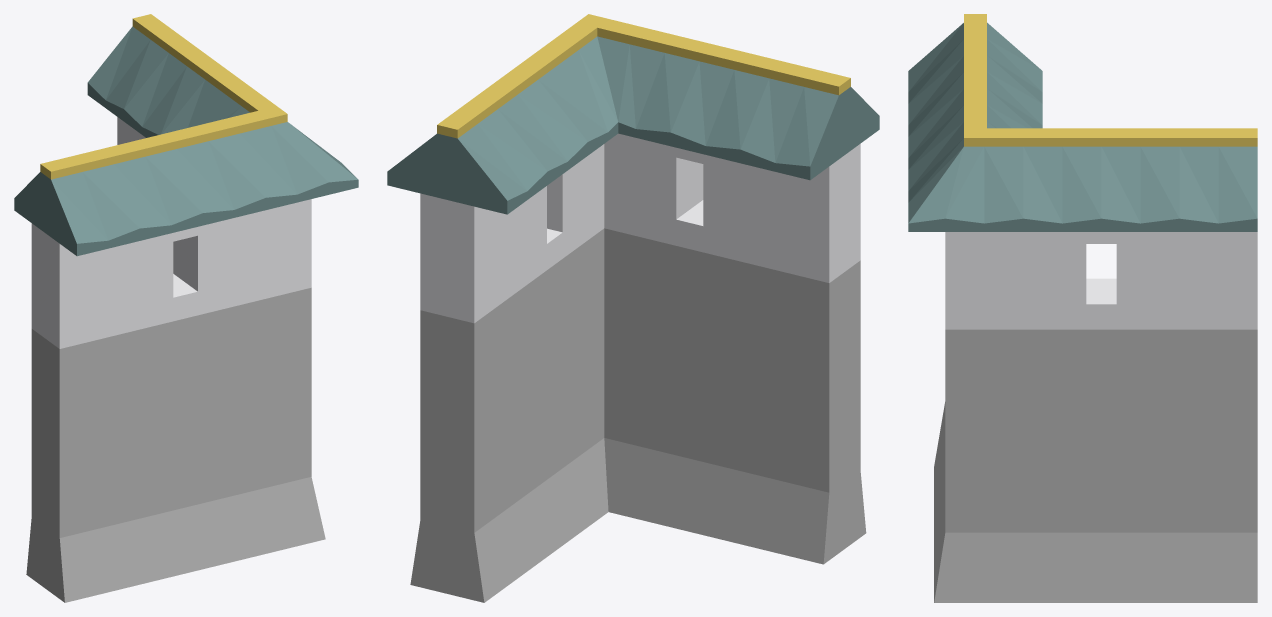
File: Wall_3.fbx
3 renders of one model, left to right at view 1: azimuth 30°, elevation 25°; view 2: azimuth 150°, elevation 25°; view 3: azimuth 270°, elevation 25°, orthographic. The views are drawn at different scales.
Visible parts, largest first — view 1: Asian_Prop_Building_Fence_Wall_High_Small_Corner_Embrasure_. (×2), Asian_Prop_Building_Fence_Wall_High_Small_Corner_Embrasure_, Asian_Prop_Building_Fence_Wall_High_Small_Corner_Embrasure_0; view 2: Asian_Prop_Building_Fence_Wall_High_Small_Corner_Embrasure_. (×2), Asian_Prop_Building_Fence_Wall_High_Small_Corner_Embrasure_, Asian_Prop_Building_Fence_Wall_High_Small_Corner_Embrasure_0; view 3: Asian_Prop_Building_Fence_Wall_High_Small_Corner_Embrasure_. (×2), Asian_Prop_Building_Fence_Wall_High_Small_Corner_Embrasure_, Asian_Prop_Building_Fence_Wall_High_Small_Corner_Embrasure_0.
Boxes of the visible parts, x1,y1,x2,y2 form: Asian_Prop_Building_Fence_Wall_High_Small_Corner_Embrasure_. (×2): (14, 26, 358, 602); Asian_Prop_Building_Fence_Wall_High_Small_Corner_Embrasure_: (31, 117, 311, 348); Asian_Prop_Building_Fence_Wall_High_Small_Corner_Embrasure_0: (40, 14, 287, 179); Asian_Prop_Building_Fence_Wall_High_Small_Corner_Embrasure_. (×2): (387, 36, 879, 602); Asian_Prop_Building_Fence_Wall_High_Small_Corner_Embrasure_: (420, 133, 860, 323); Asian_Prop_Building_Fence_Wall_High_Small_Corner_Embrasure_0: (437, 14, 850, 138); Asian_Prop_Building_Fence_Wall_High_Small_Corner_Embrasure_. (×2): (908, 22, 1257, 602); Asian_Prop_Building_Fence_Wall_High_Small_Corner_Embrasure_: (945, 232, 1257, 329); Asian_Prop_Building_Fence_Wall_High_Small_Corner_Embrasure_0: (964, 14, 1257, 146).
Bounding box in the file's own units: 289 × 413 × 289.
